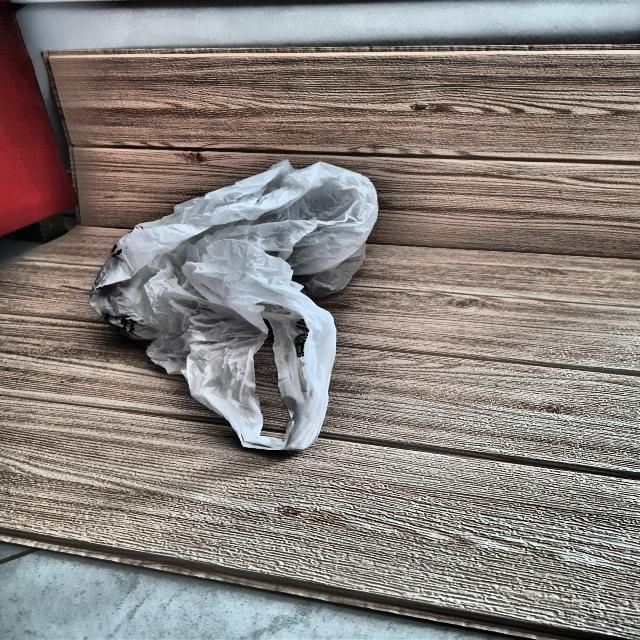plastic bag: (77, 161, 388, 456)
